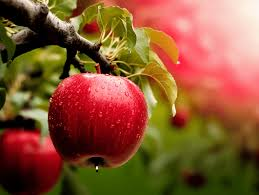Apple: (48, 71, 148, 171), (0, 126, 56, 193)
